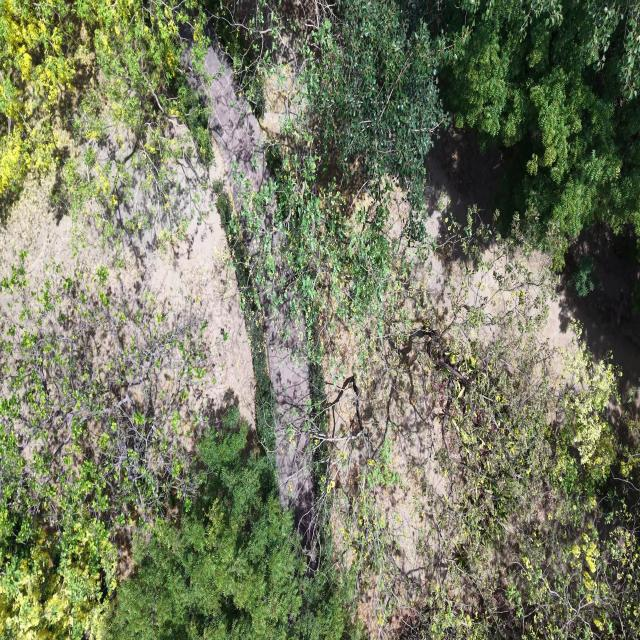DRY_AREA: (0, 48, 268, 423), (0, 48, 267, 422), (0, 48, 265, 423), (325, 246, 548, 637), (0, 150, 255, 453), (0, 181, 254, 423), (325, 328, 465, 637), (325, 327, 460, 637), (545, 226, 639, 394), (258, 282, 313, 546), (558, 225, 639, 394), (426, 128, 501, 236), (426, 127, 501, 223)
PATHWAYS: (259, 290, 313, 549)
VEGETATION_TREE: (0, 0, 639, 639), (234, 44, 638, 637), (0, 256, 358, 638), (325, 241, 639, 638), (252, 2, 637, 311), (304, 0, 639, 268), (300, 2, 638, 265), (310, 0, 639, 267), (0, 256, 211, 638), (232, 0, 446, 334), (112, 408, 358, 639), (437, 0, 639, 265), (0, 0, 212, 241), (0, 0, 212, 232), (302, 0, 447, 238)
